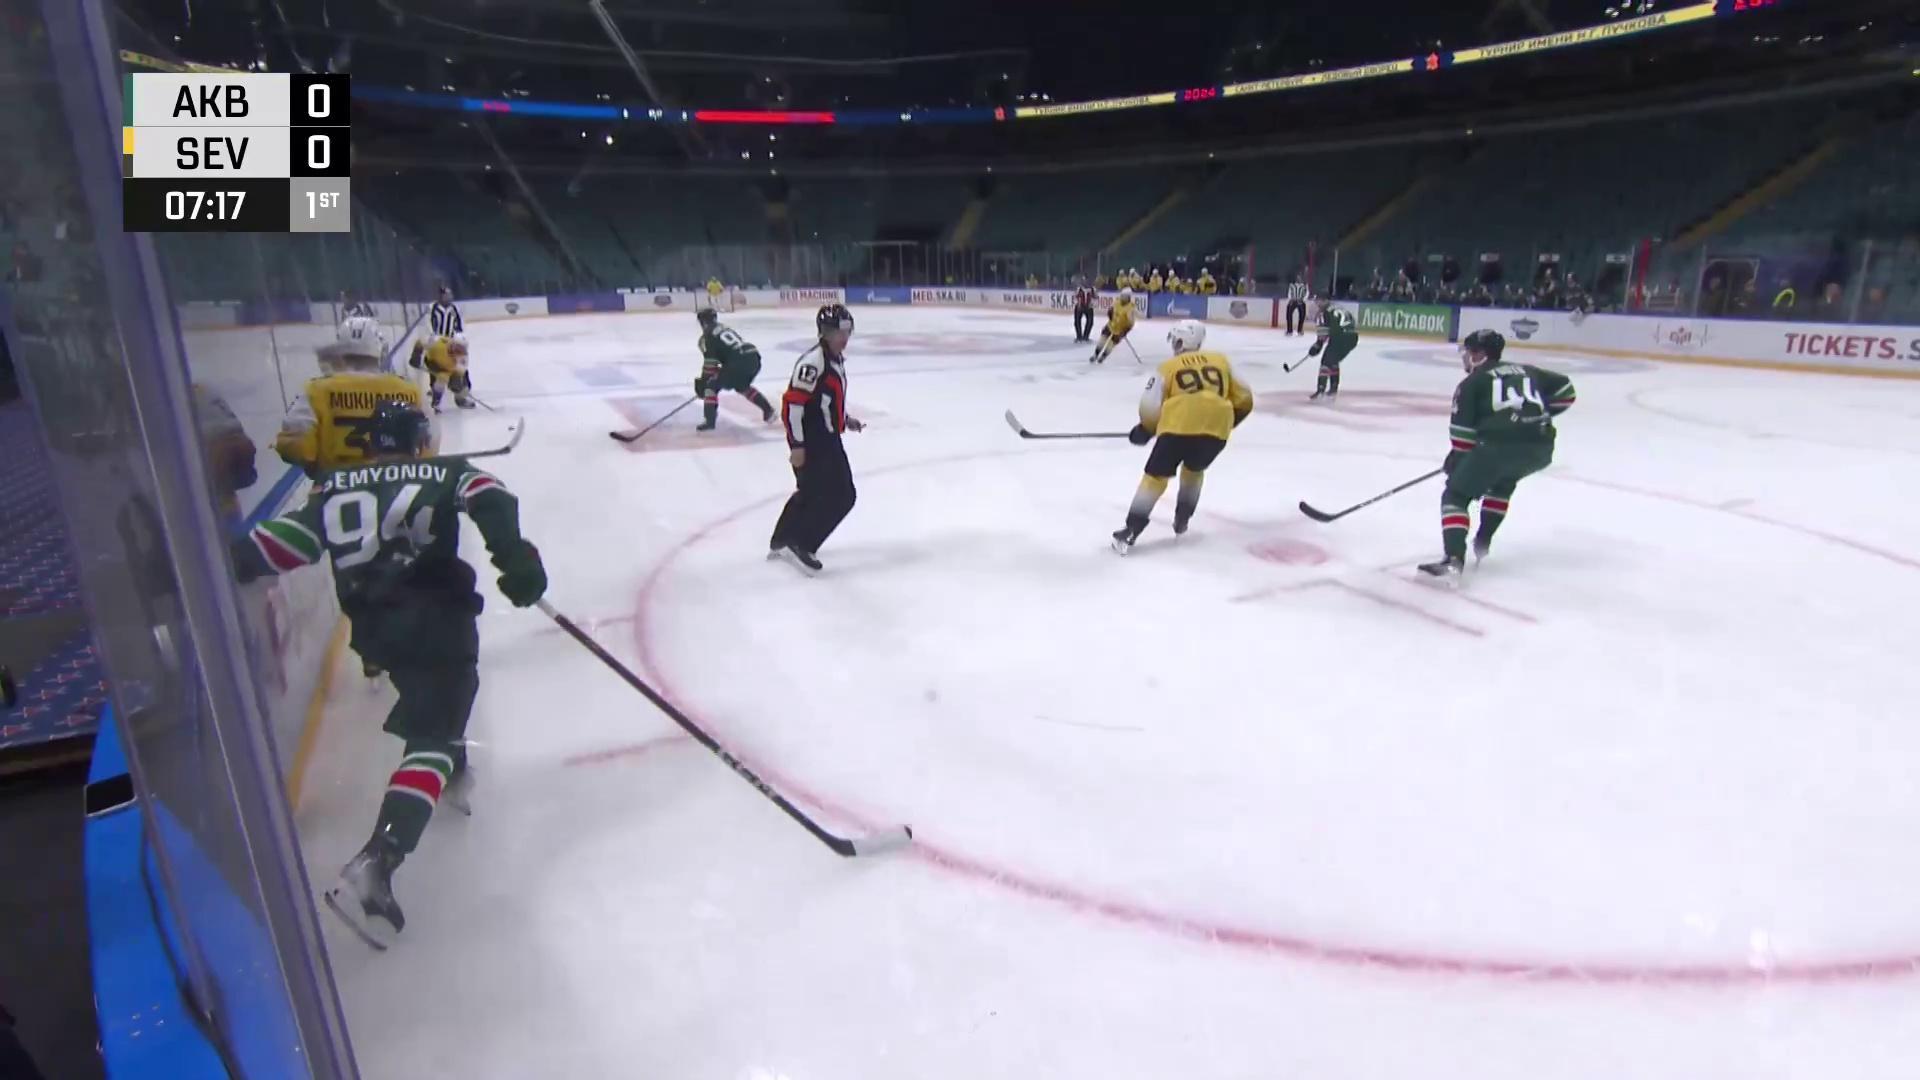ball: (506, 426, 516, 433)
